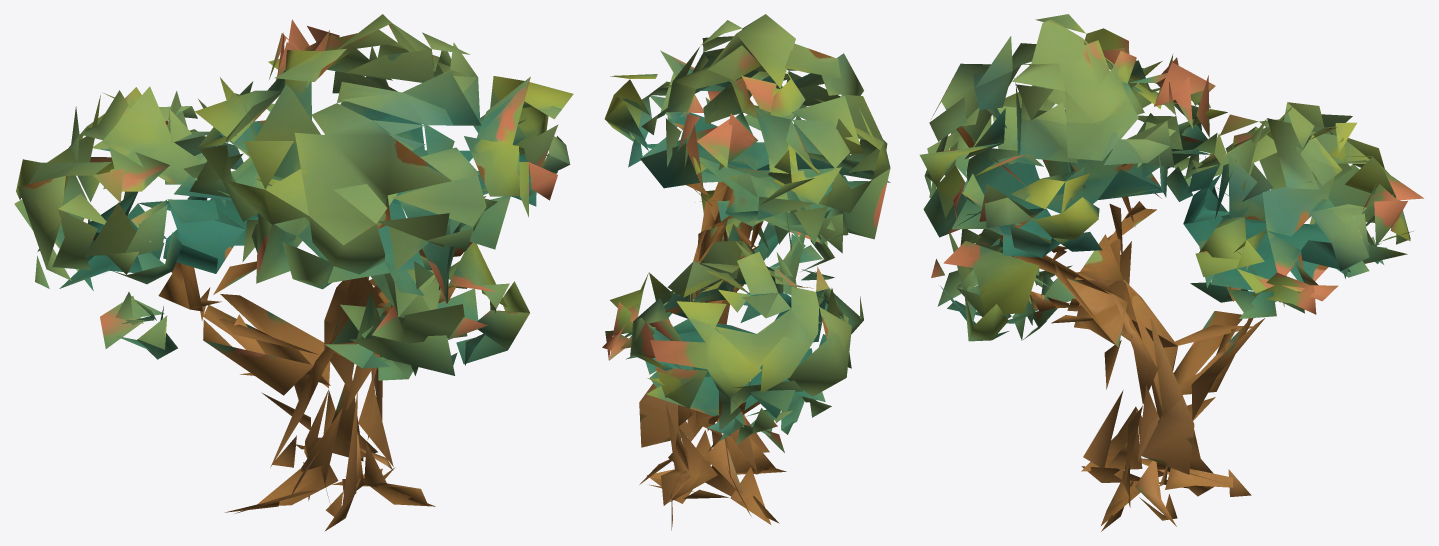
File: tree-lod.glb
The picture shows the model from 3 angles, left to right: view 1: azimuth 30°, elevation 25°; view 2: azimuth 150°, elevation 25°; view 3: azimuth 270°, elevation 25°; orthographic projection. The views are drawn at different scales.
Parts seen in each view (by area): view 1: World66.tree-lod; view 2: World66.tree-lod; view 3: World66.tree-lod.
Part boxes in pixels (x1=…): World66.tree-lod: x1=14, y1=14, x2=573, y2=531; World66.tree-lod: x1=602, y1=14, x2=890, y2=530; World66.tree-lod: x1=919, y1=14, x2=1423, y2=531.
Size of the model in its own units: 0.8231 by 1.02 by 0.9805.
Materials: 1 (1 with a texture image).
